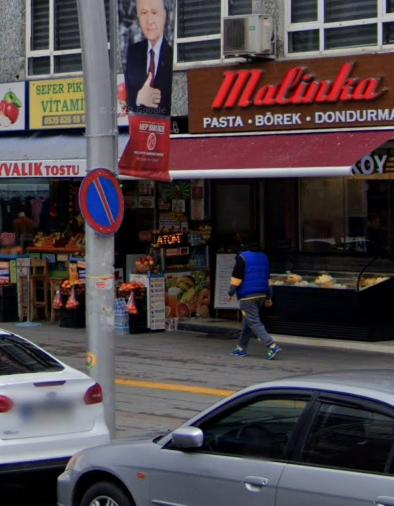nopark: (77, 168, 131, 235)
